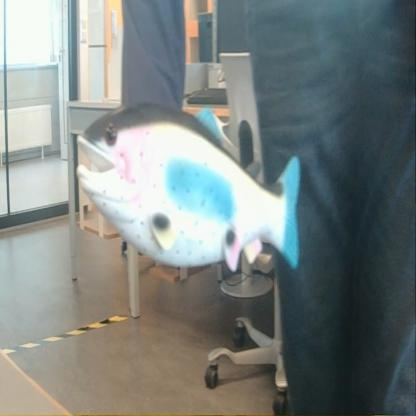rubberfish: (72, 100, 304, 278)
